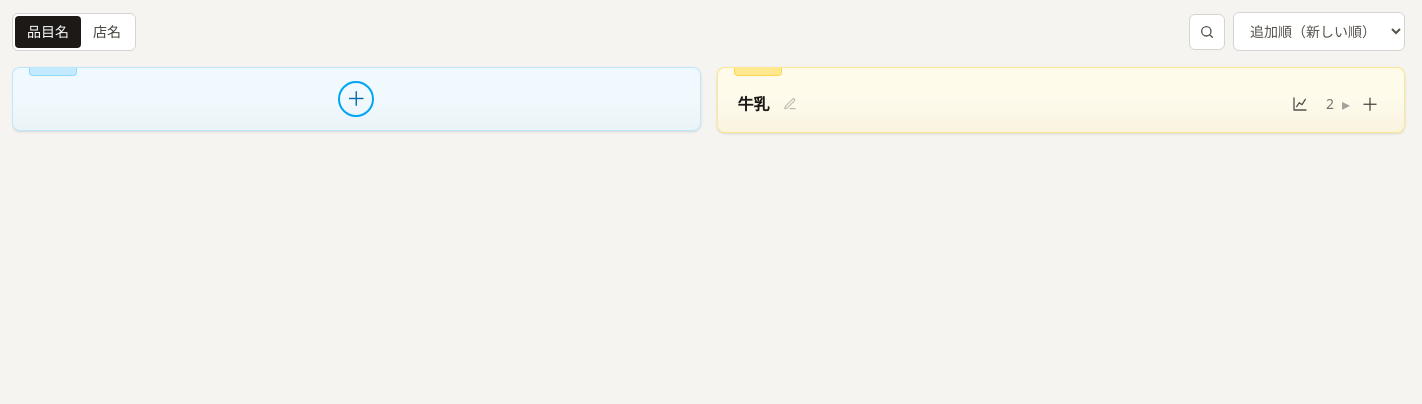
FoldersPage folder record delete › desktop (PC trash drag) › keeps the record and shows an error when delete fails
Expected: the button named "すべての記録（2）" is shown, top-left (1320, 90), bottom-right (1340, 118)
Press the mouse on the text "牛乳" at [754, 104], box top-left (738, 93), bottom-right (770, 115)
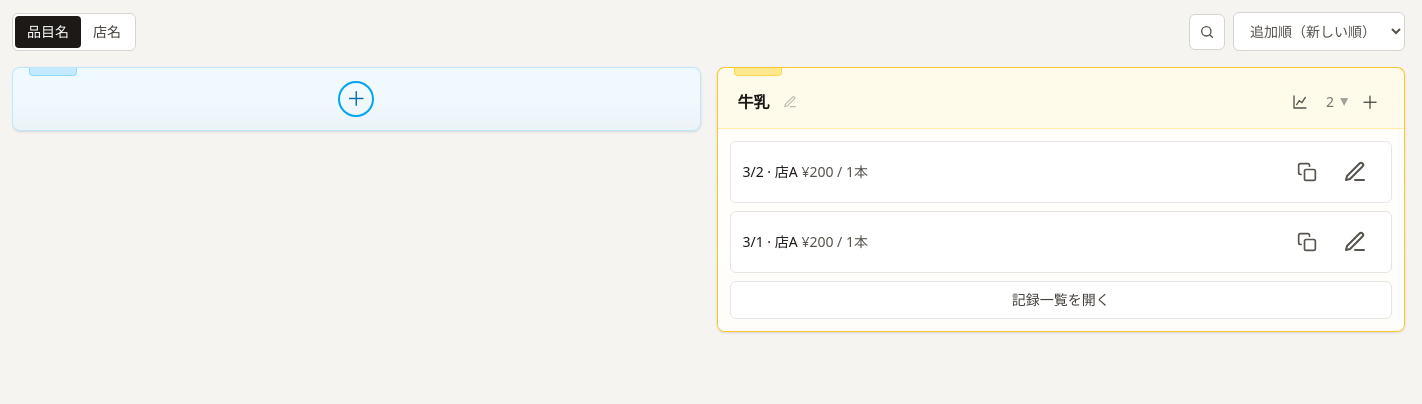
Press the mouse on the element showing "3/2 · 店A ¥200 / 1本" at [1061, 172], box top-left (730, 141), bottom-right (1392, 203)
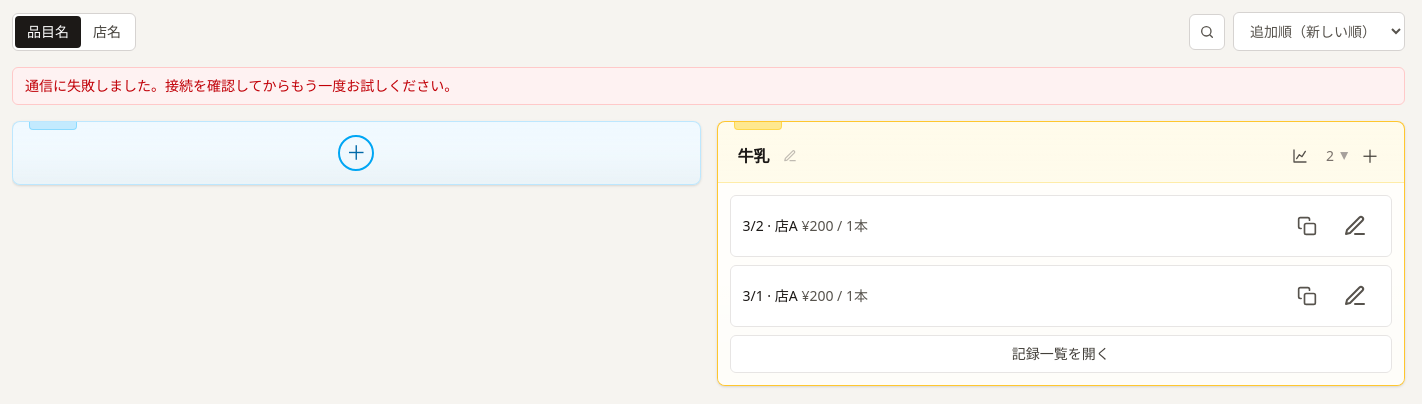
Expected: the text "通信に失敗しました。接続を確認してからもう一度お試しください。" is shown, top-left (12, 67), bottom-right (1405, 105)
